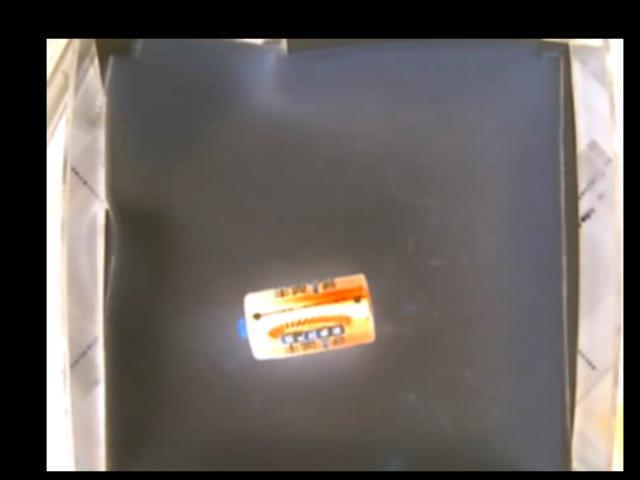Battery: (234, 272, 378, 362)
